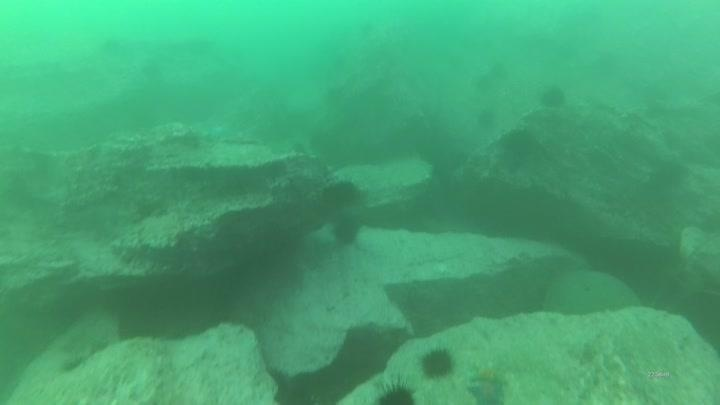echinus: (497, 125, 539, 167), (318, 177, 364, 212), (417, 345, 457, 382), (329, 214, 363, 249), (372, 379, 419, 404), (537, 83, 569, 111), (474, 106, 499, 133)
starfish: (466, 376, 509, 405), (468, 362, 509, 387)
